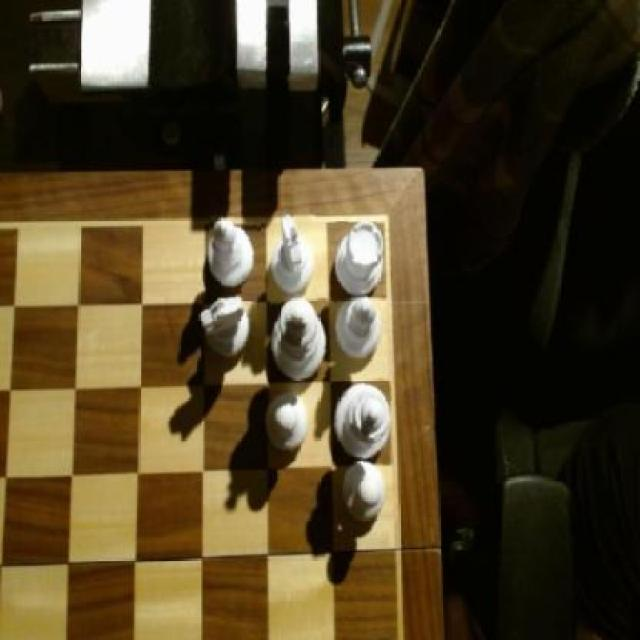black-rook: (206, 216, 259, 292), (335, 294, 383, 364)
white-bishop: (271, 294, 329, 379)
white-king: (200, 296, 257, 368), (271, 212, 317, 298)
white-knight: (264, 391, 314, 458), (346, 462, 389, 528)
white-pawn: (334, 383, 395, 465)
white-queen: (337, 220, 388, 297)
